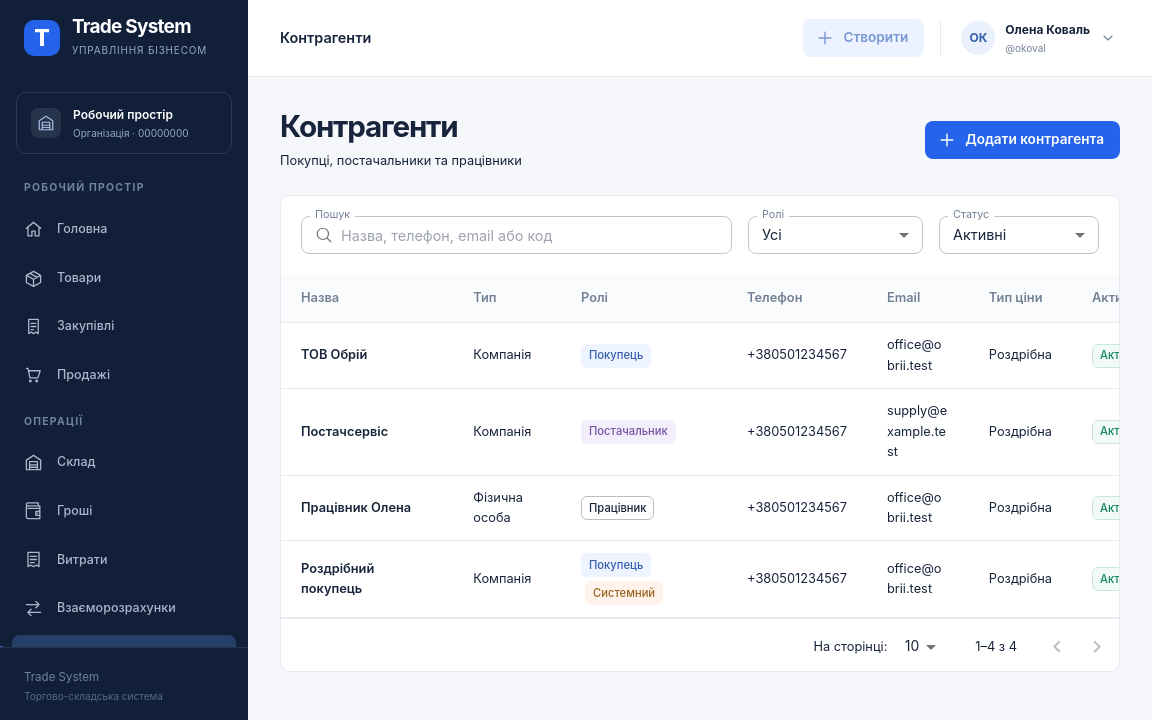
Test case: Counterparty UI › filters Покупці using the existing role flags
Expected: the link "ТОВ Обрій" is shown, [301, 347, 367, 362]
Click the dropdown named "Ролі" at (772, 234), box [762, 226, 782, 243]
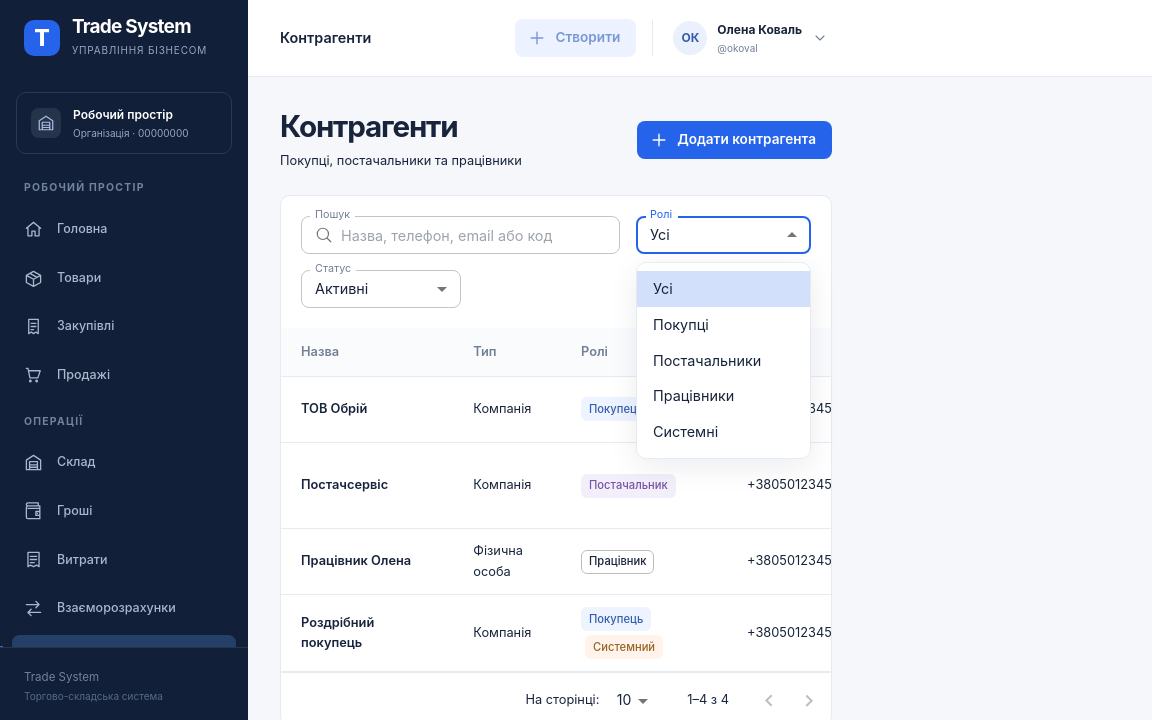
Click the option "Покупці" at (681, 324), box [653, 316, 709, 333]
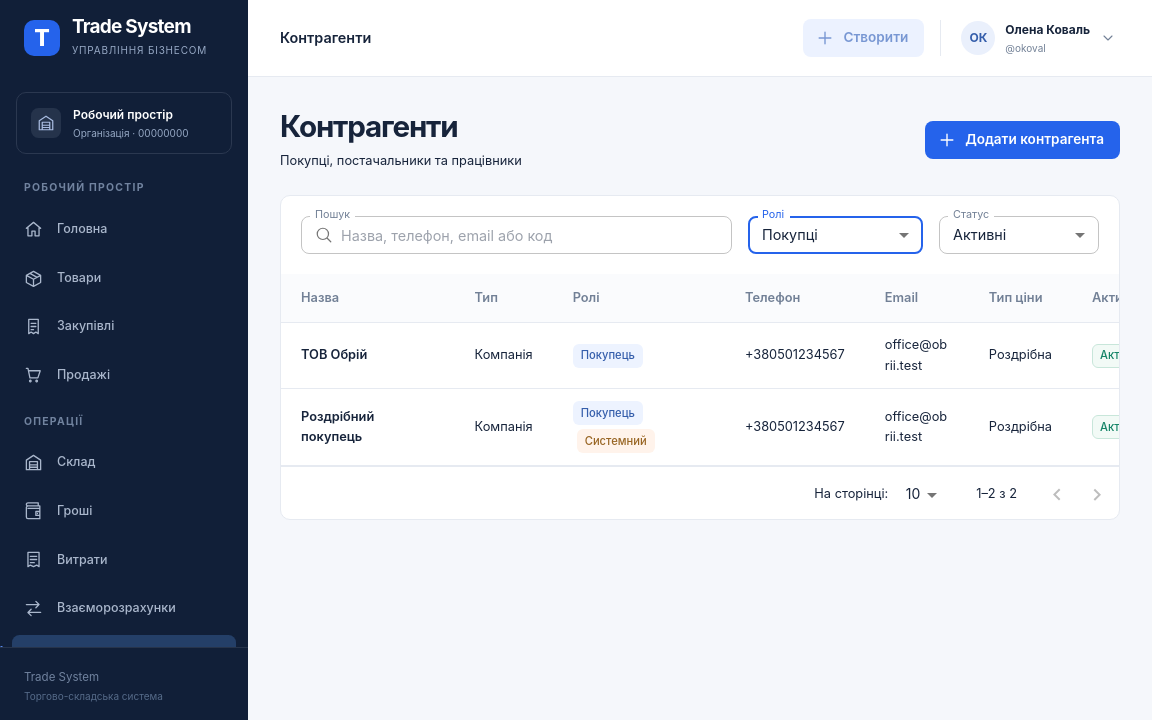
Expected: the link "ТОВ Обрій" is shown, [301, 347, 367, 362]
Now the link "Постачсервіс" is gone
